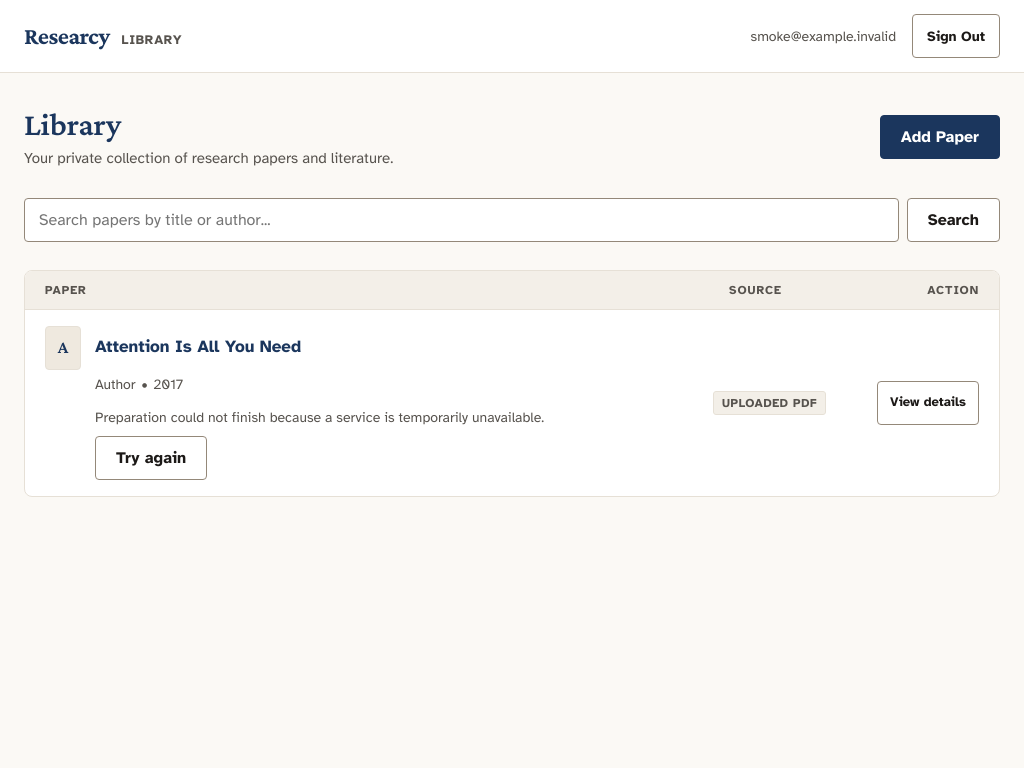
Test case: recovers from an invalidated foreground search when sign-out fails without remaining stuck loading
The image size is (1024, 768).
# Start foreground search
Type "Transformer" into the search field labelled "Search papers" at (461, 220), box x1=24 y1=198 x2=899 y2=242
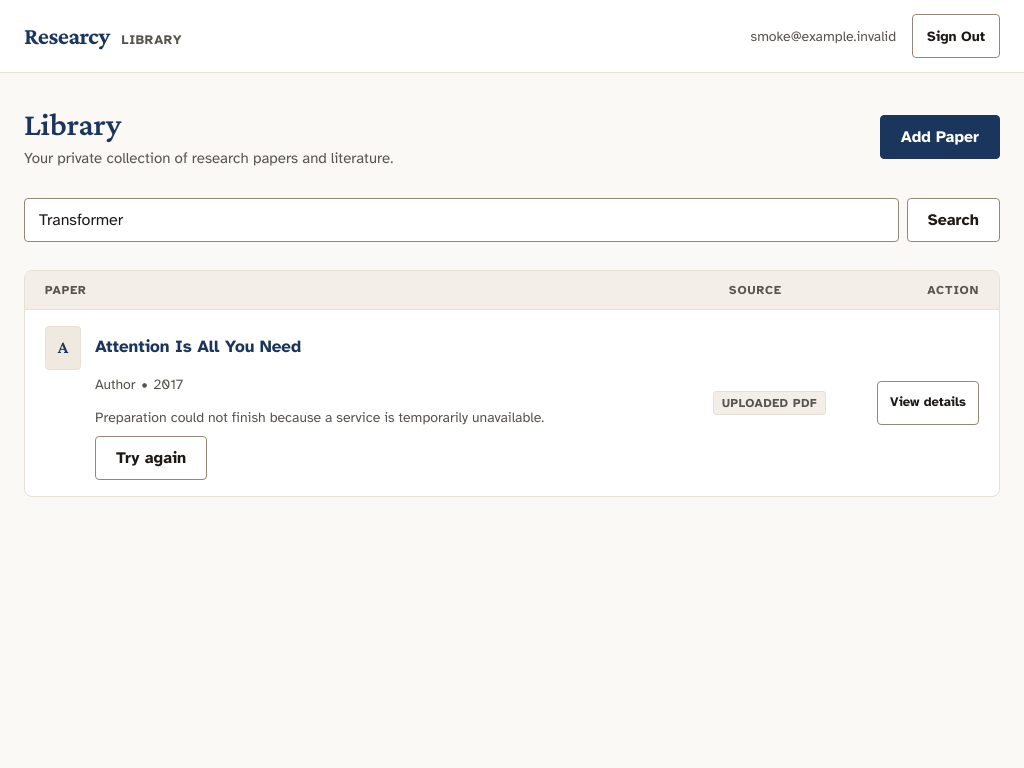
Submit the form, box x1=24 y1=198 x2=1000 y2=242
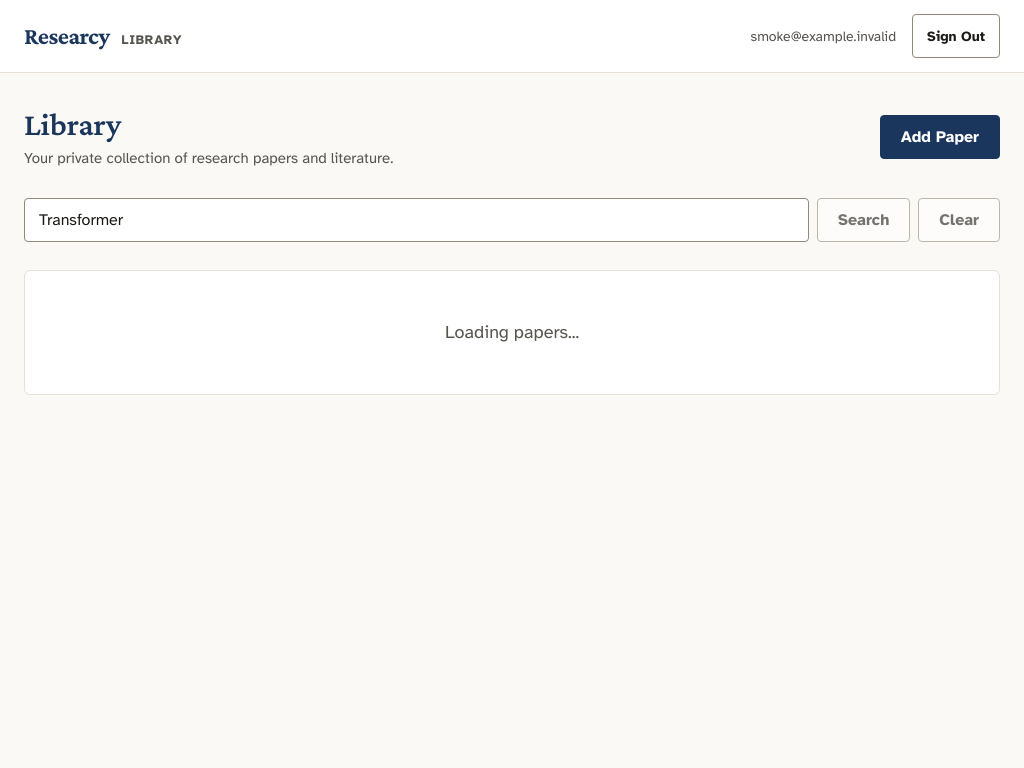
# Click Sign Out while search is in flight
Click the button "Sign Out" at (956, 36), box x1=912 y1=14 x2=1000 y2=58
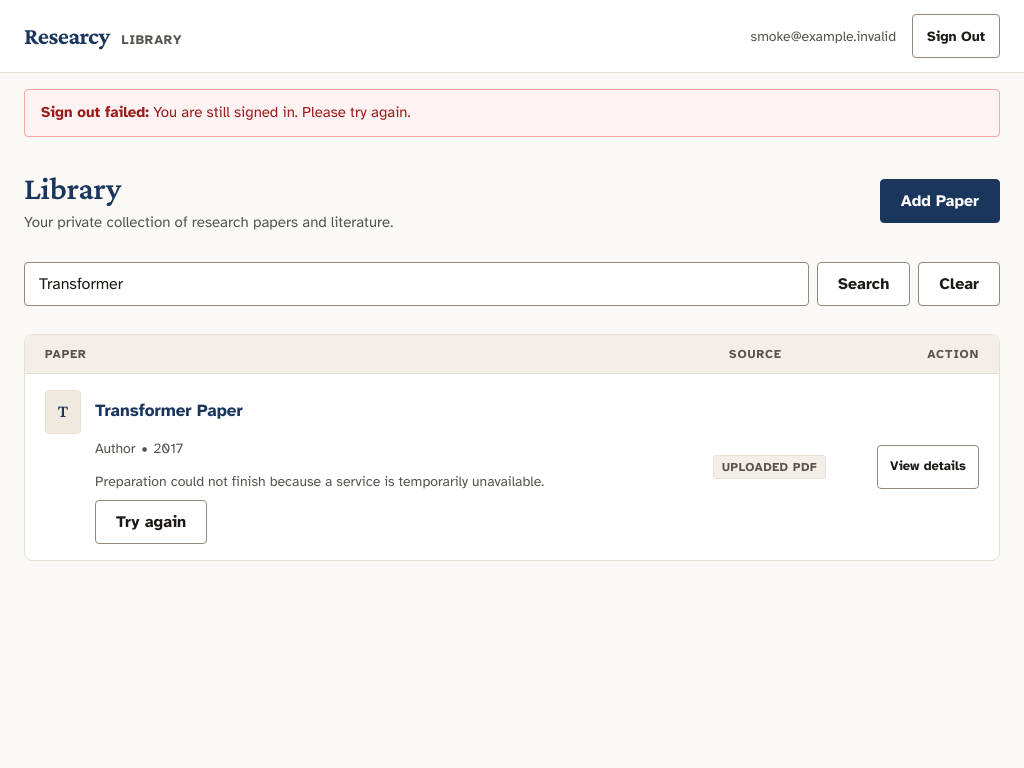
Result: the text "Loading papers" is gone
Result: the link "Transformer Paper" is shown at x1=95 y1=400 x2=243 y2=421
